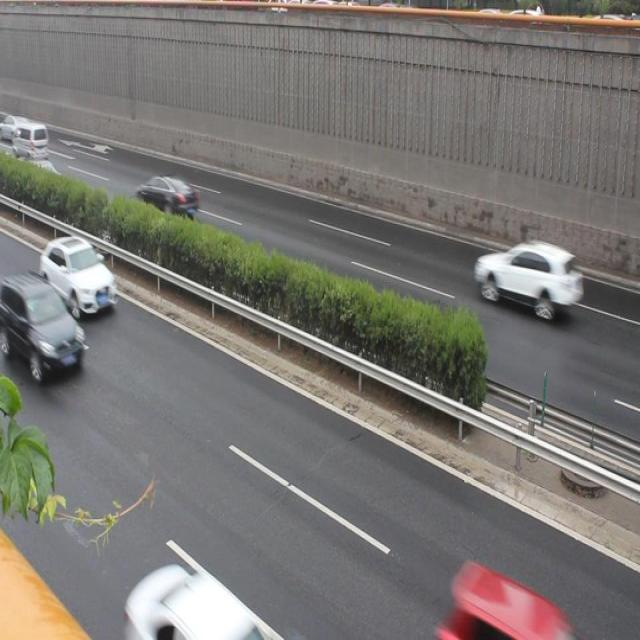car: (469, 233, 581, 319), (1, 270, 82, 376), (40, 229, 122, 319), (133, 167, 195, 224), (19, 151, 60, 195)
